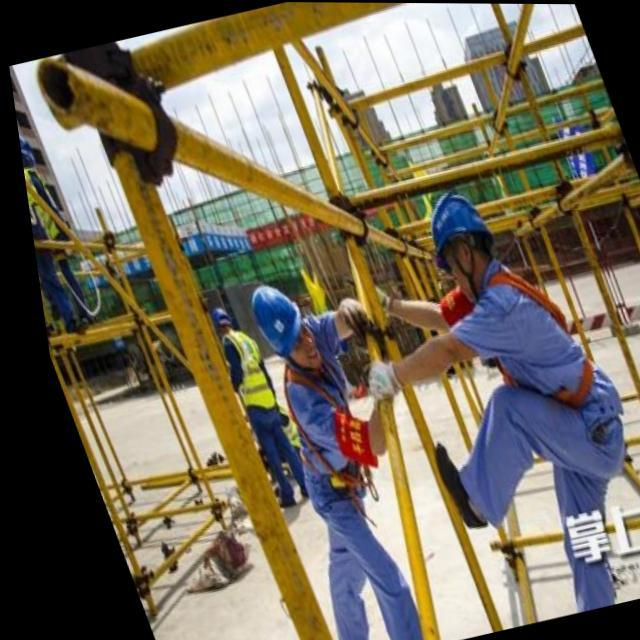belt: (472, 280, 610, 414)
